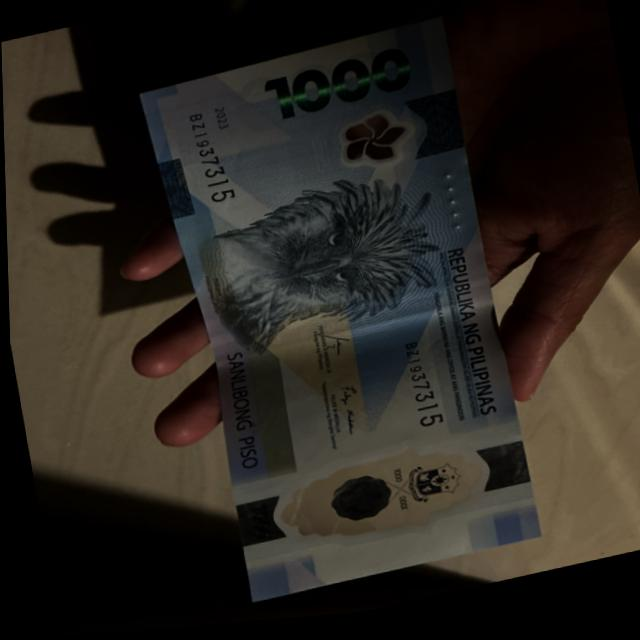clear_window: (244, 429, 525, 572)
eagle: (189, 169, 459, 351)
sampaguita: (330, 110, 423, 187)
